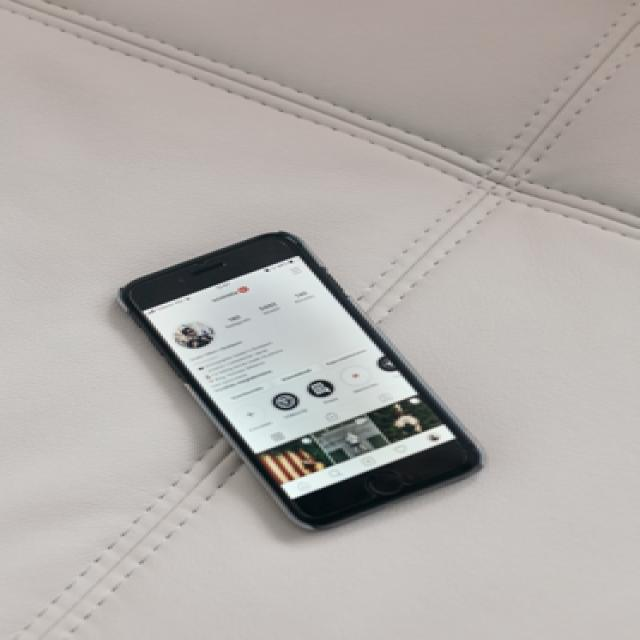cellphone: (115, 229, 482, 531)
